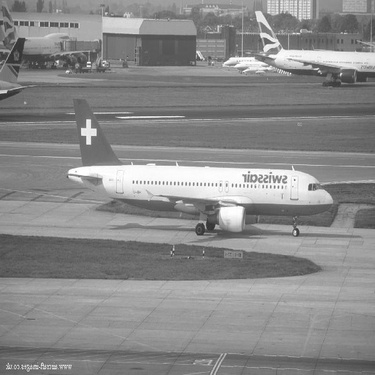airplane: (33, 86, 357, 252), (246, 6, 375, 83)
